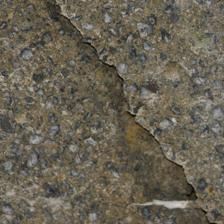Crack: (27, 1, 181, 217)
